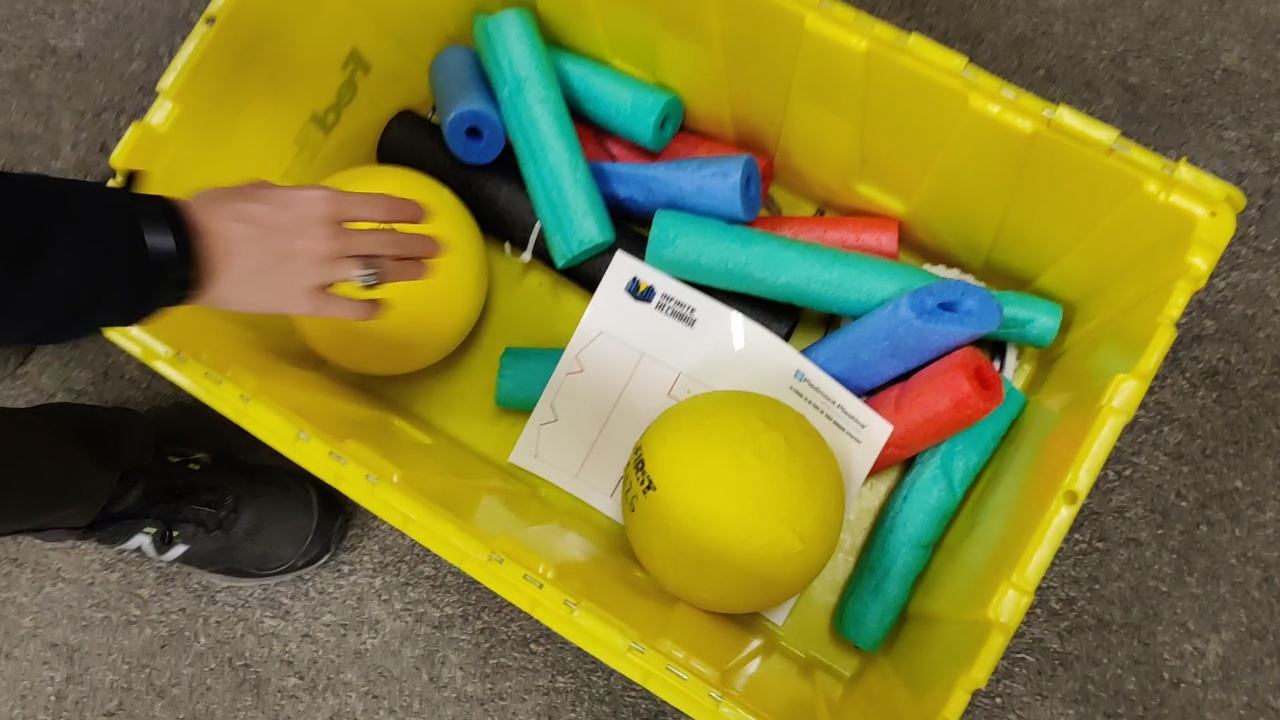Ball: (625, 392, 844, 611), (296, 162, 487, 373)
